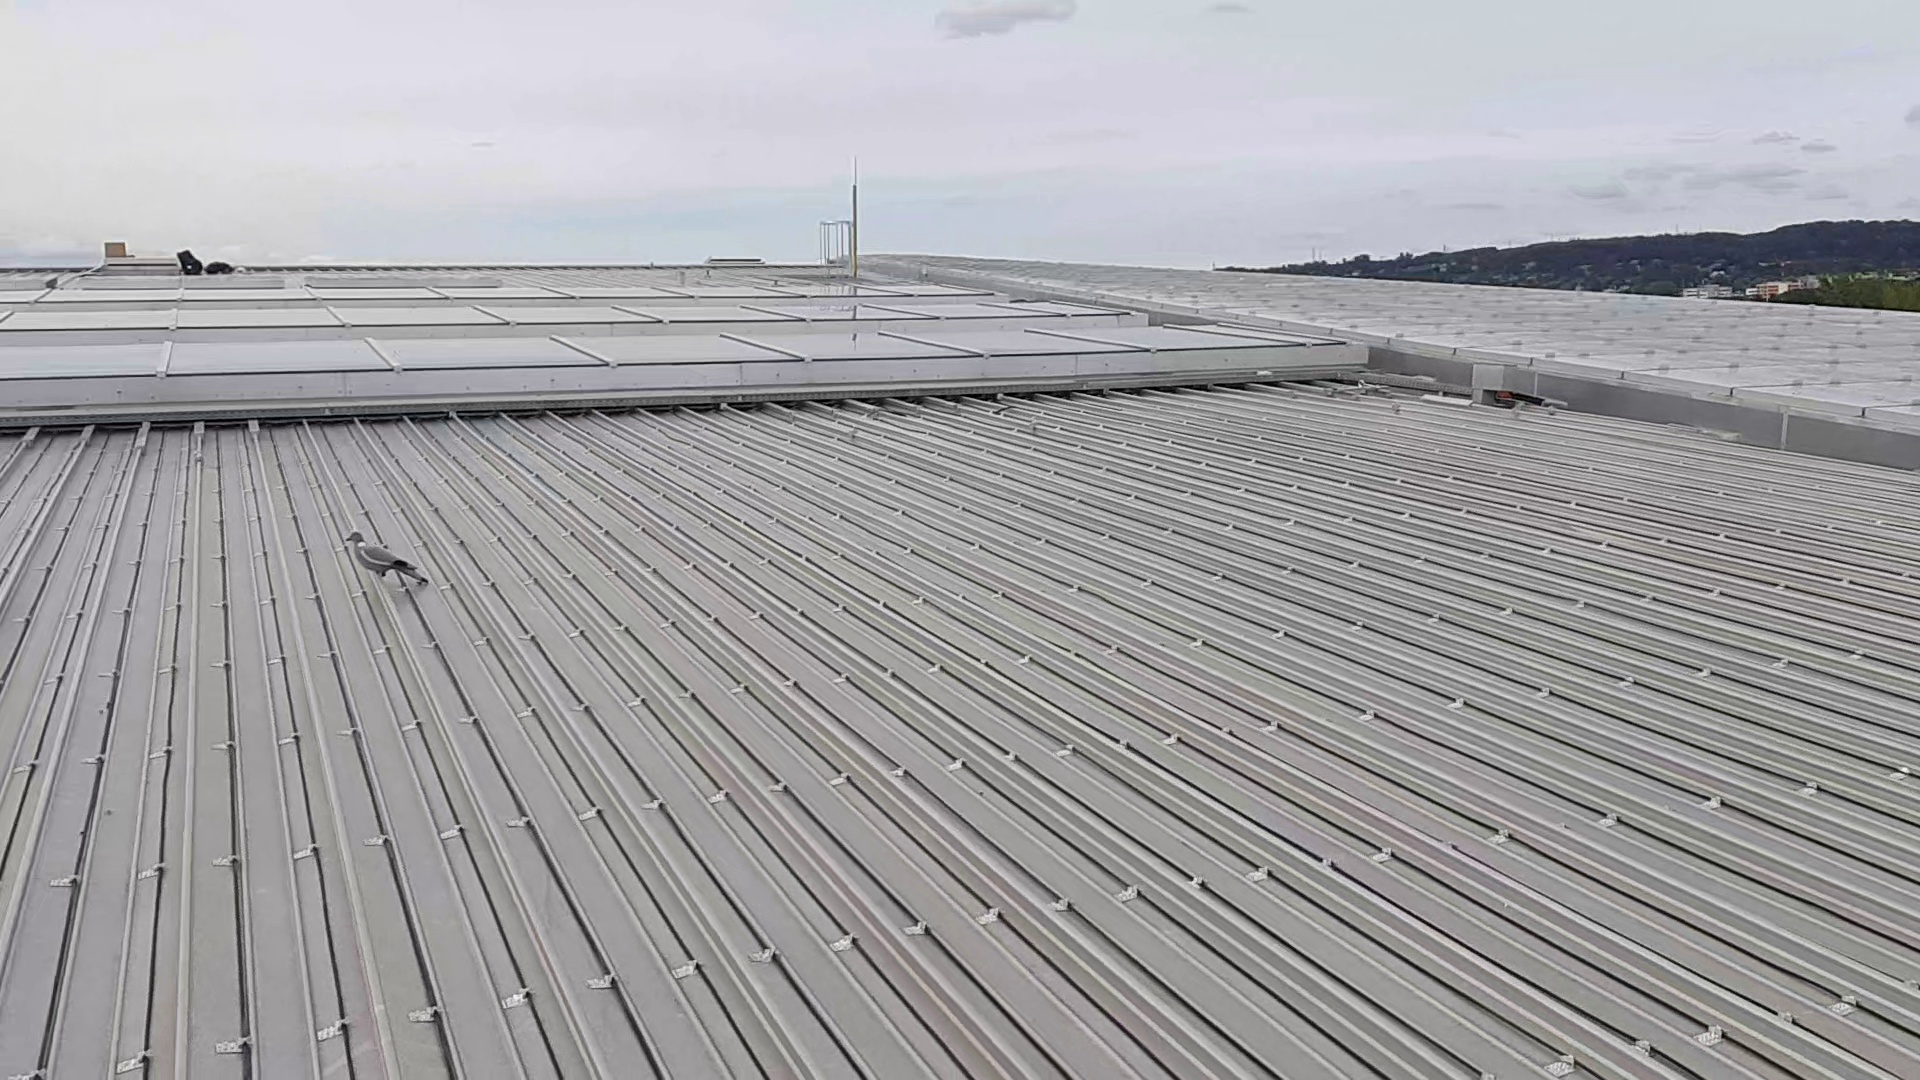Pigeon: (338, 527, 435, 587)
